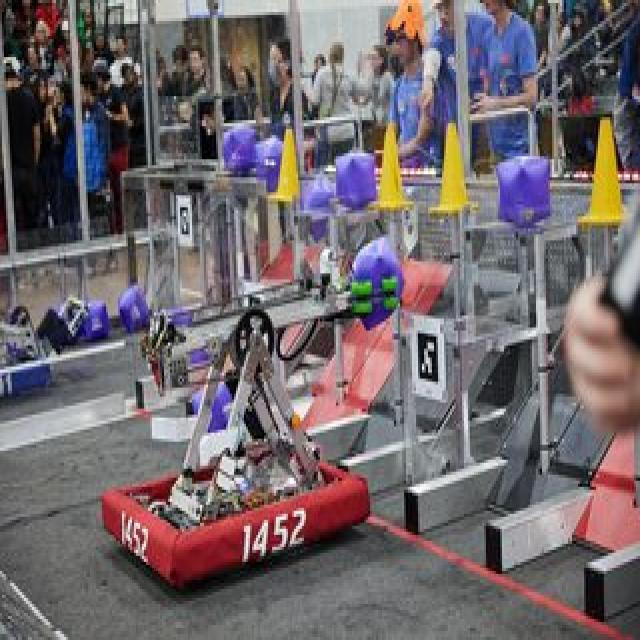robot: (99, 242, 415, 600), (0, 302, 92, 394)
